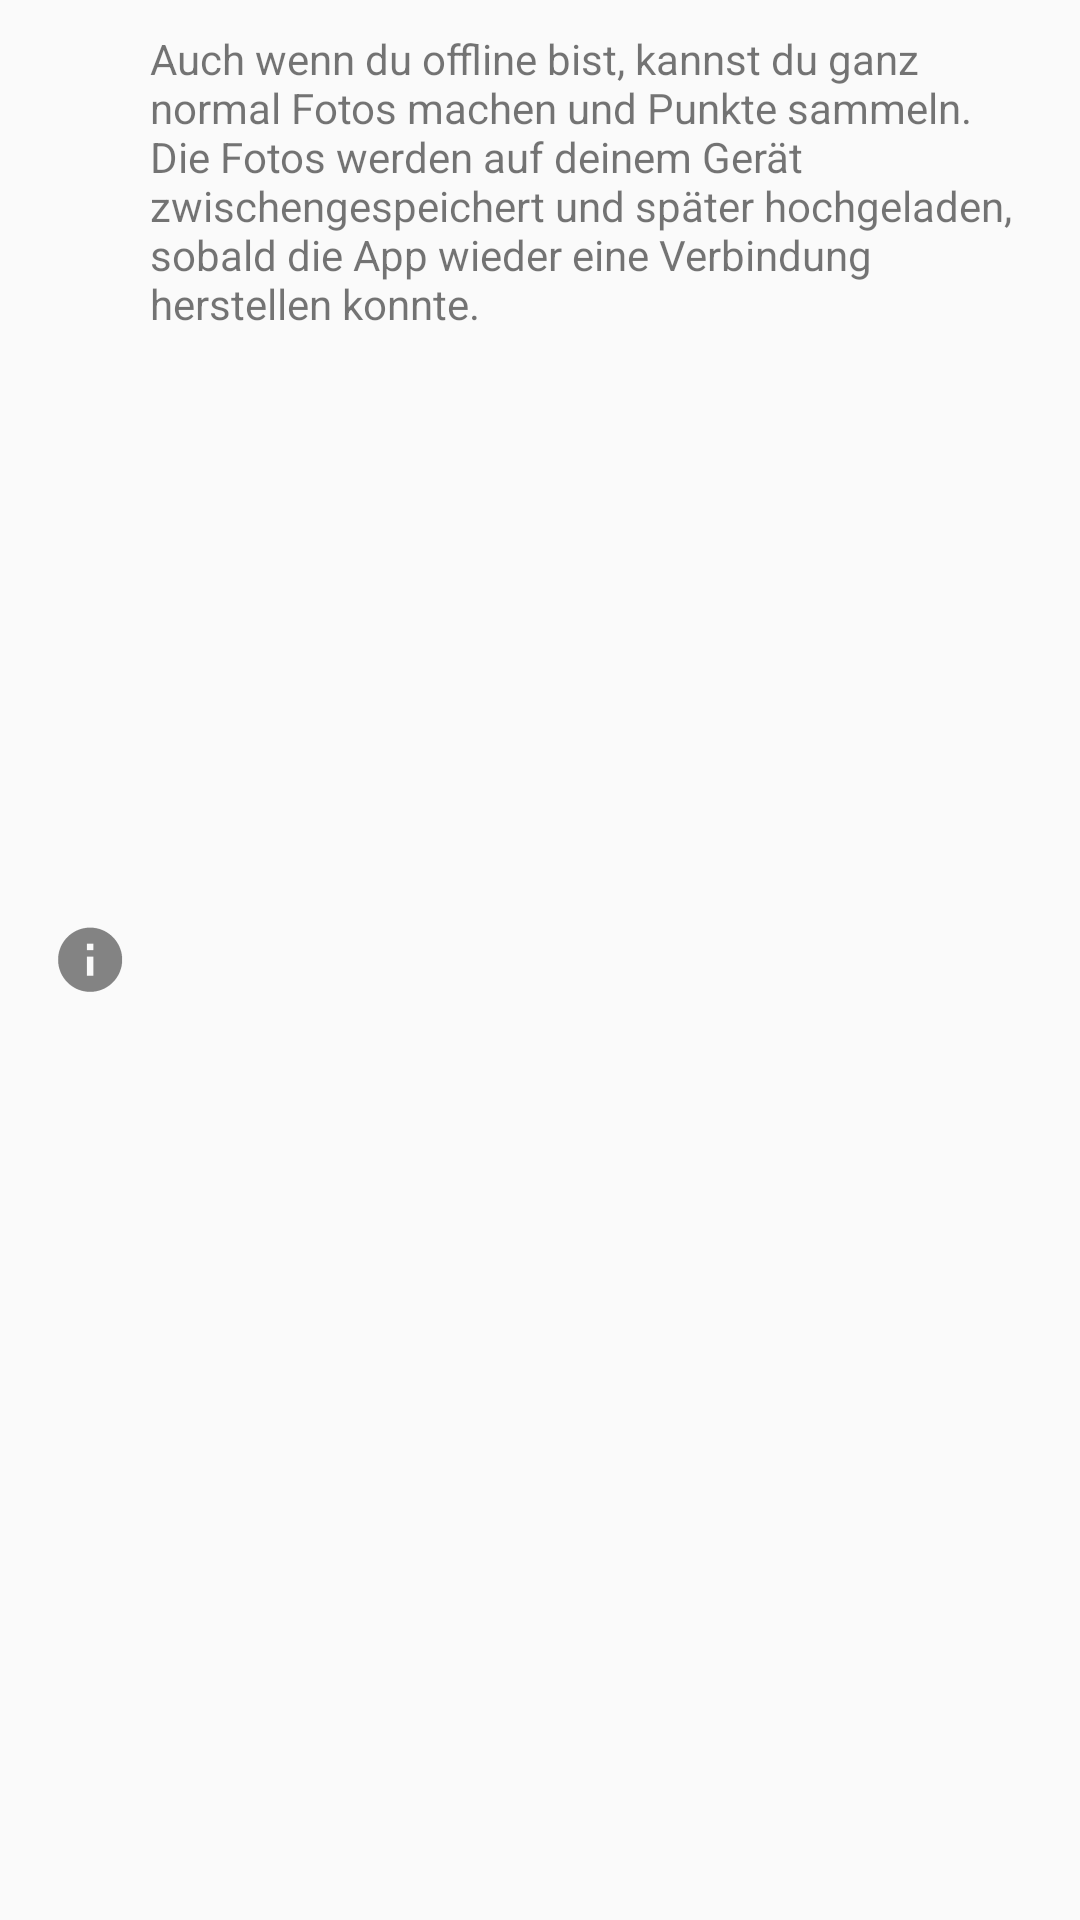

Icons on this 1080w x 1920h Android screen, each with its box as [x1=x1, y1=y1, x2=x2, y2=y2]:
info: [x1=58, y1=927, x2=122, y2=992]
